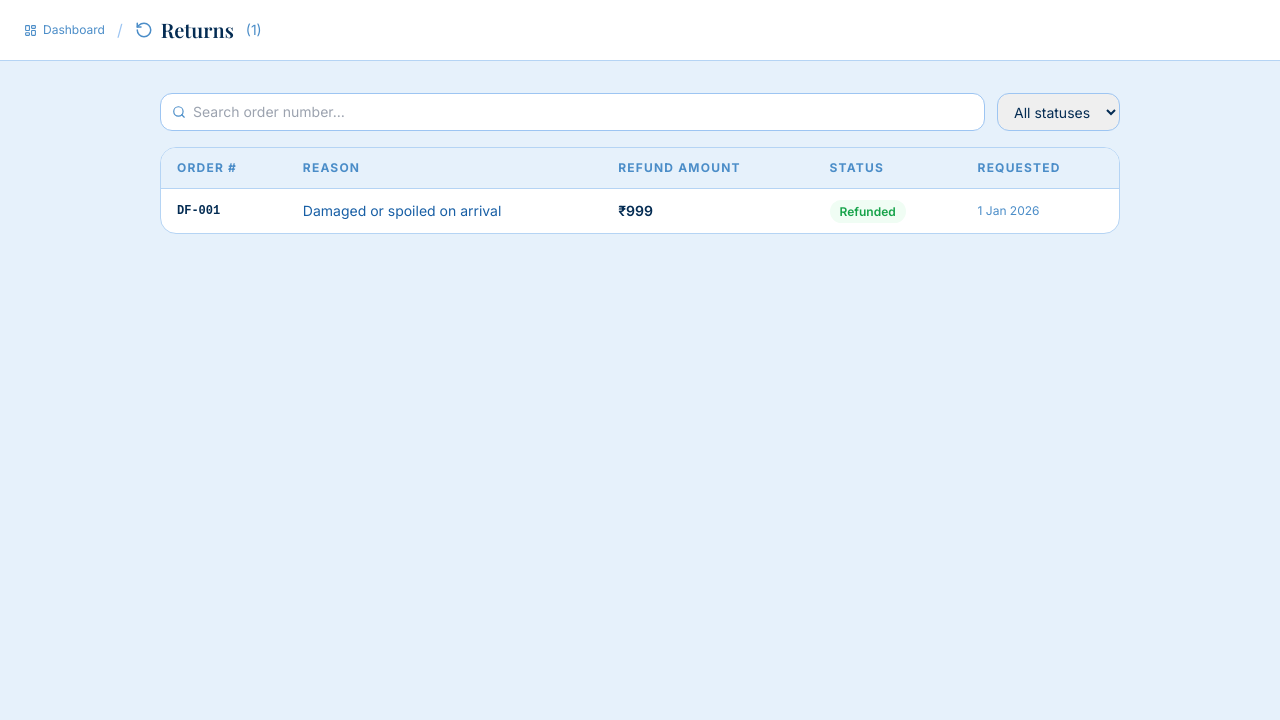
Scenario: AdminReturnsPage › shows the refund method and reference for a resolved manual refund
Click the text "DF-001".
click(199, 211)  # box x1=161 y1=188 x2=287 y2=233
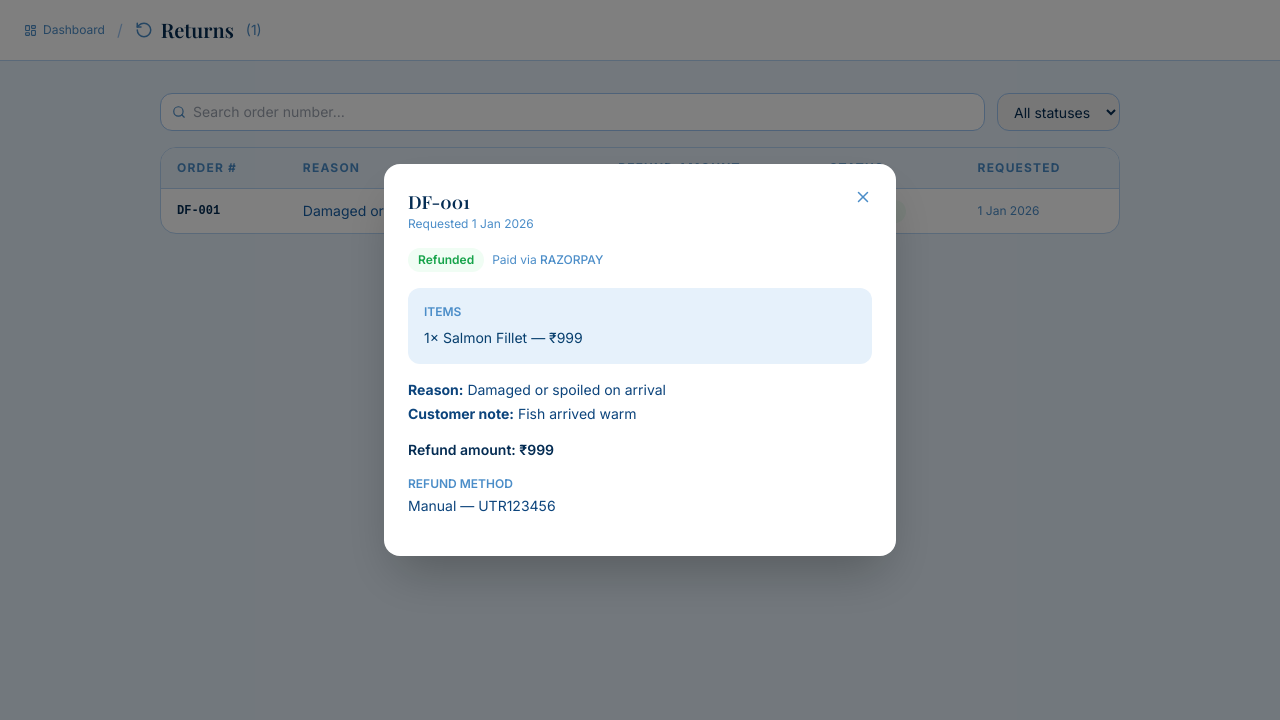
Result: the text "manual — UTR123456" is shown at x1=408 y1=497 x2=556 y2=514
